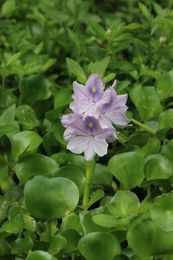water_hyacinth: (0, 70, 173, 260)
